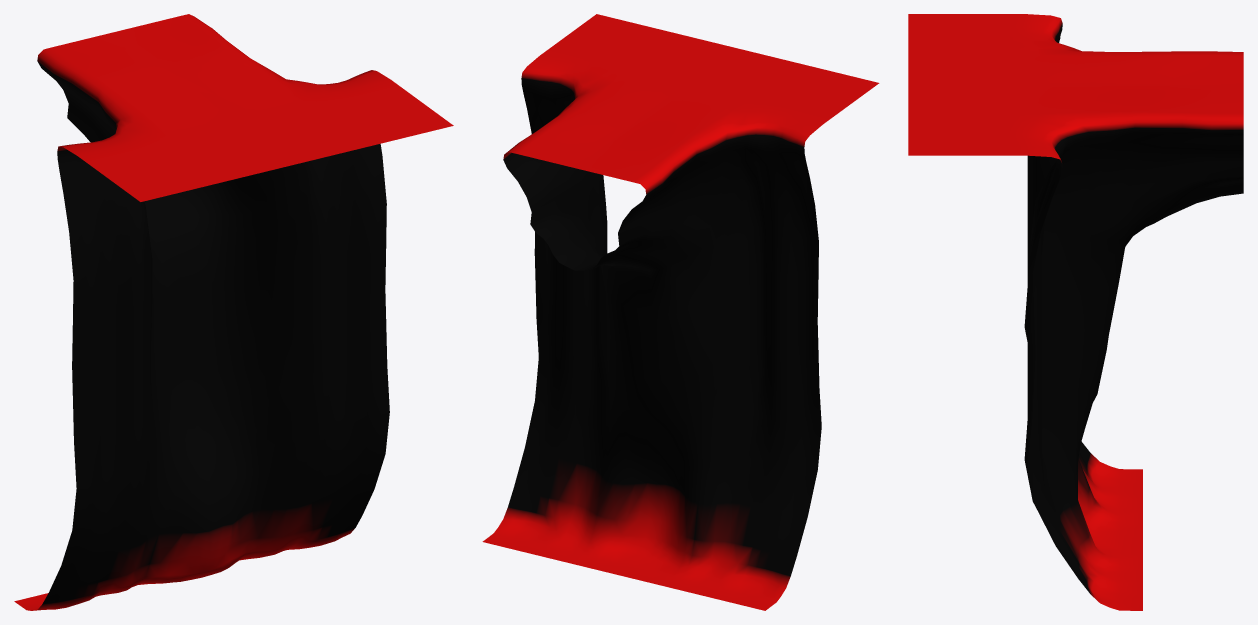
File: CrossingCliff02A 3M Foreground.fbx
The picture shows the model from 3 angles, left to right: view 1: azimuth 30°, elevation 25°; view 2: azimuth 150°, elevation 25°; view 3: azimuth 270°, elevation 25°; orthographic projection. The views are drawn at different scales.
Parts seen in each view (by area): view 1: CrossingCliff02A 3M Foreground; view 2: CrossingCliff02A 3M Foreground; view 3: CrossingCliff02A 3M Foreground.
Part boxes in pixels (<box>): CrossingCliff02A 3M Foreground: <box>14,14,453,610</box>; CrossingCliff02A 3M Foreground: <box>482,14,879,610</box>; CrossingCliff02A 3M Foreground: <box>908,14,1243,610</box>.
Bounding box in the file's own units: 2 × 3.01 × 2.
